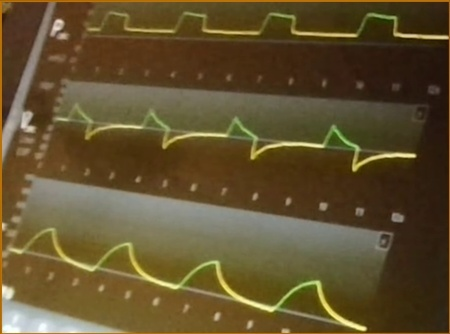Normal Flow: (57, 96, 415, 176)
Normal Volume: (11, 225, 366, 330)
